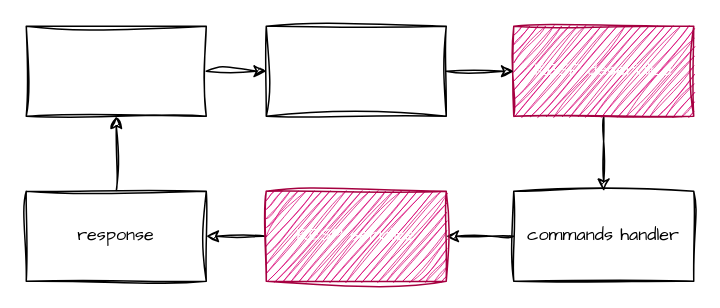
The diagram is 720 pixels wide and 308 high, and some of its shapes have lost their labels. The box of each missing label's shape, as (x1, y1, x2, y2) in pixels:
client: (25, 25, 206, 116)
TCP request: (265, 25, 446, 116)
